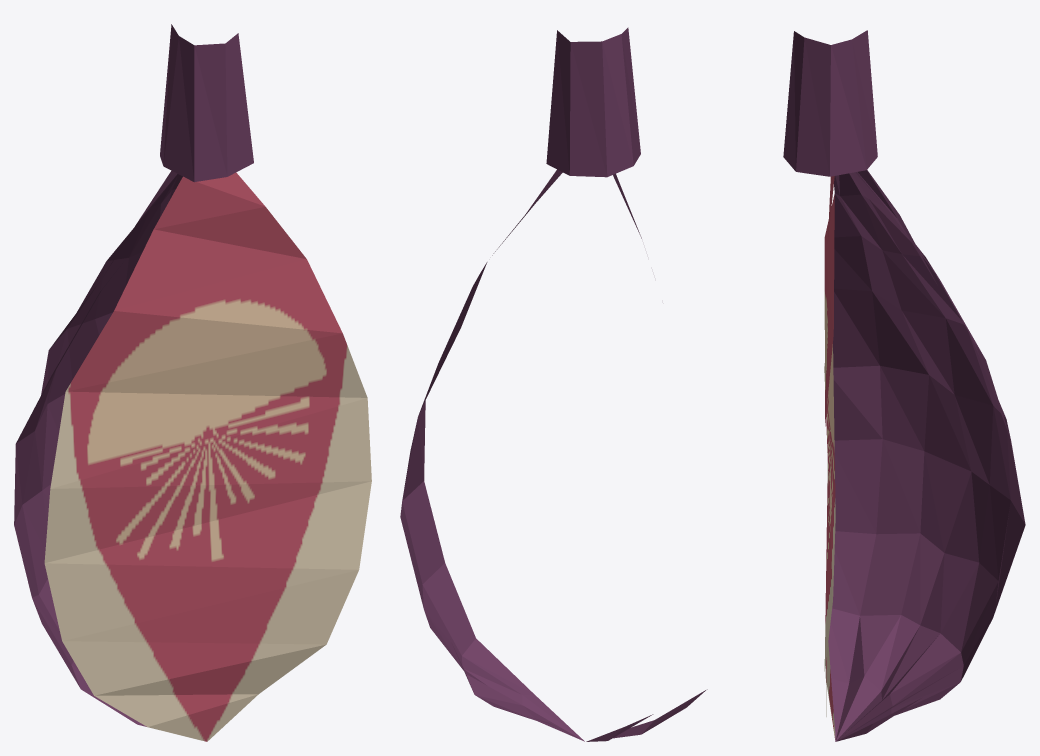
File: fig.glb
The picture shows the model from 3 angles, left to right: view 1: azimuth 30°, elevation 25°; view 2: azimuth 150°, elevation 25°; view 3: azimuth 270°, elevation 25°; orthographic projection.
Bounding box in the file's own units: 0.9117 × 1.9 × 0.5836.
Materials: 2 (1 with a texture image).
